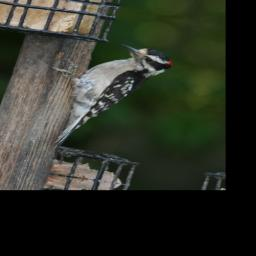Woodpecker: (23, 35, 177, 160)
